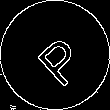P_NW: (24, 24, 86, 86)
